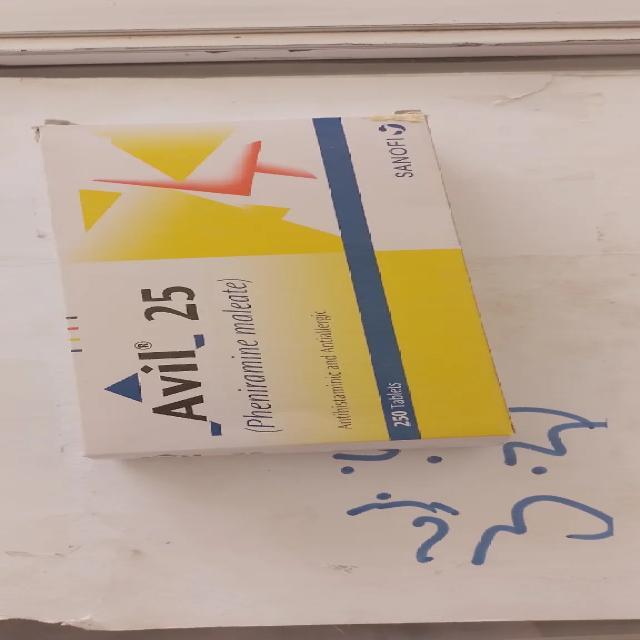drug-name: (128, 280, 211, 423)
